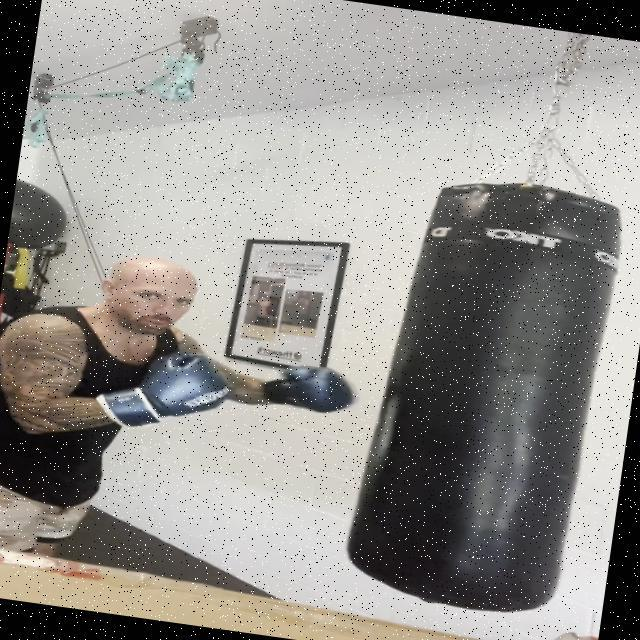bag: (316, 167, 640, 621)
hook: (0, 232, 395, 476)
